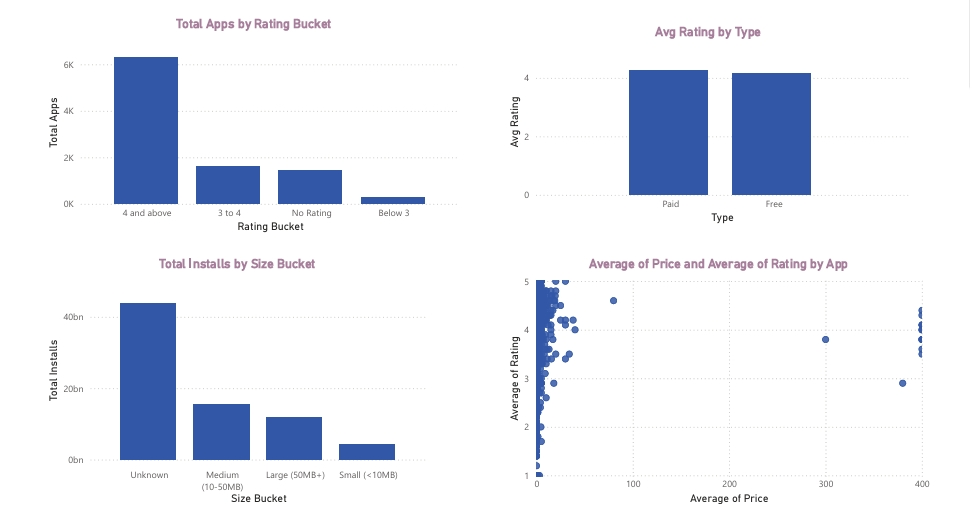

The page's visual inventory and layout, read from the dashboard file:
{"tool":"powerbi","page":{"name":"Ratings & Pricing","canvas":[1280,720],"ordinal":2},"visuals":[{"type":"clusteredColumnChart","fields":{"Category":["PlayStore.Rating Bucket"],"Y":["PlayStore.Total Apps"]},"box":[45.5,65.7,559.2,293.1],"z":0},{"type":"clusteredColumnChart","fields":{"Category":["PlayStore.Size Bucket"],"Y":["PlayStore.Total Installs"]},"box":[45.5,385.7,515.4,335.2],"z":1},{"type":"clusteredColumnChart","fields":{"Category":["PlayStore.Type"],"Y":["PlayStore.Avg Rating"]},"box":[658.5,75.8,544,271.2],"z":2},{"type":"scatterChart","fields":{"X":["Avg(PlayStore.Price)"],"Y":["Avg(PlayStore.Rating)"],"Category":["PlayStore.App"]},"box":[658.5,385.7,572.6,335.2],"z":3}]}

Visuals, with their boxes on the page's 1280x720 design canvas (x1, y1, x2, y2). These are canvas units, not pixel positions in the 972x513 screenshot, which may show the page scaled, cropped or inside an application window:
clusteredColumnChart - PlayStore.Rating Bucket x PlayStore.Total Apps: 46/66/605/359
clusteredColumnChart - PlayStore.Size Bucket x PlayStore.Total Installs: 46/386/561/721
clusteredColumnChart - PlayStore.Type x PlayStore.Avg Rating: 658/76/1202/347
scatterChart - Avg(PlayStore.Price) x Avg(PlayStore.Rating): 658/386/1231/721
